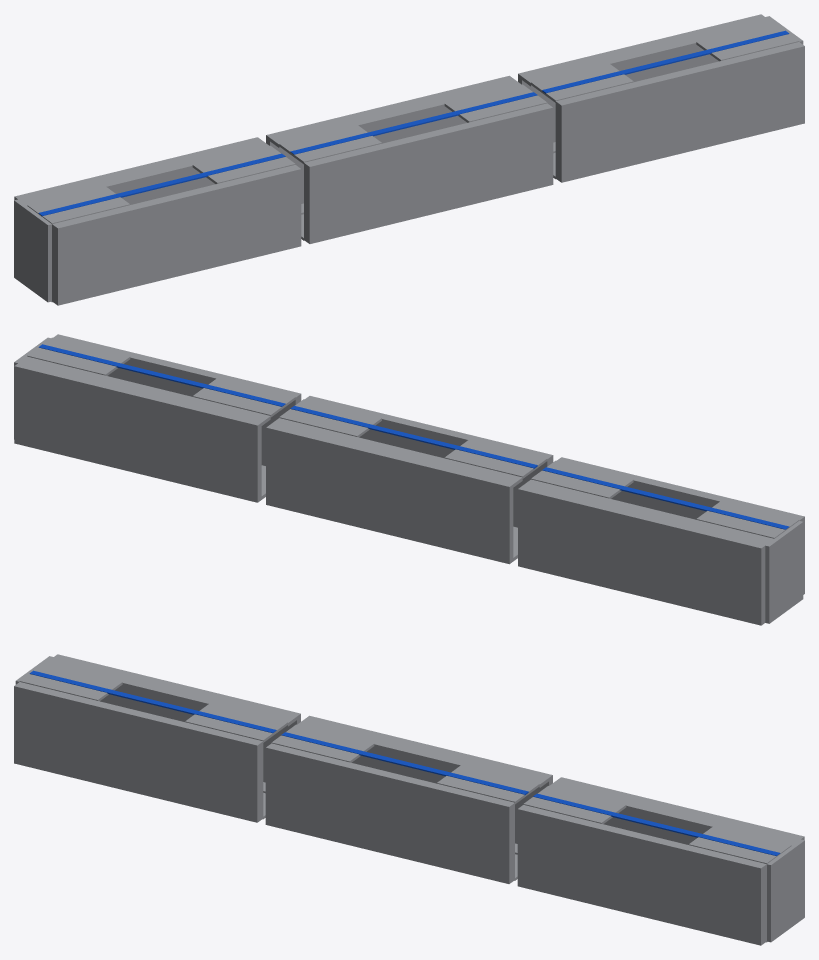
File: metro_train_blue_open.obj
3 views of the same model, one above another, from view 1: azimuth 30°, elevation 25°; view 2: azimuth 150°, elevation 25°; view 3: azimuth 330°, elevation 25° (orthographic).
Visible parts, largest first — view 1: metro_train_blue_open; view 2: metro_train_blue_open; view 3: metro_train_blue_open.
Part boxes in pixels (box(x1,y1,x2,y2)): metro_train_blue_open: box(14, 14, 804, 305); metro_train_blue_open: box(14, 334, 804, 625); metro_train_blue_open: box(14, 654, 804, 945).
Size of the model in its own units: 9 by 0.91 by 0.9.
